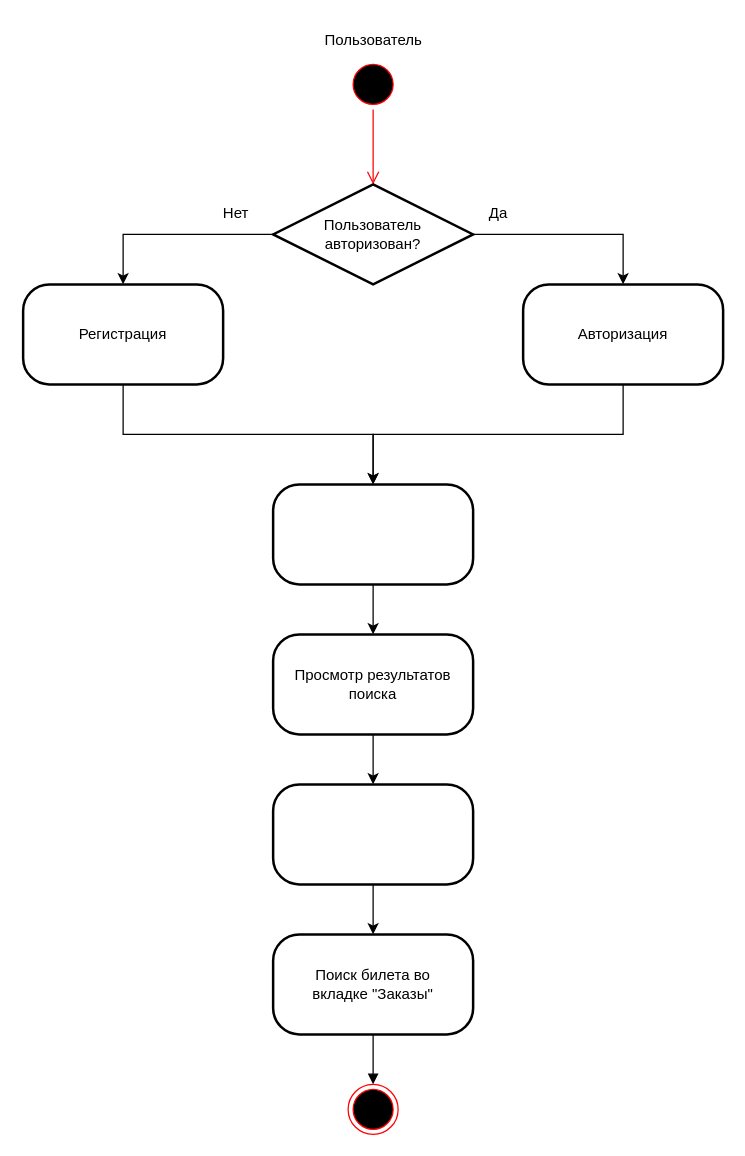
The diagram is 745 pixels wide and 1156 high, and some of its shapes have lost their labels. The shapes that lost their labels are listed below. From the top down, each one's box as (x1, y1, x2, y2) in pixels, then its label:
(271, 482, 474, 585): Поиск авиарейса
(271, 782, 474, 885): Бронирование билета
